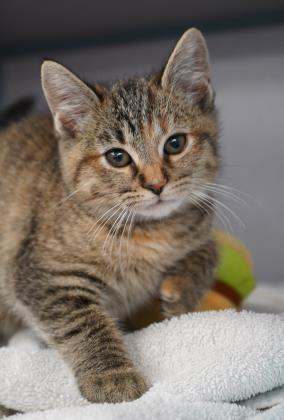bengal: (35, 25, 225, 234)
